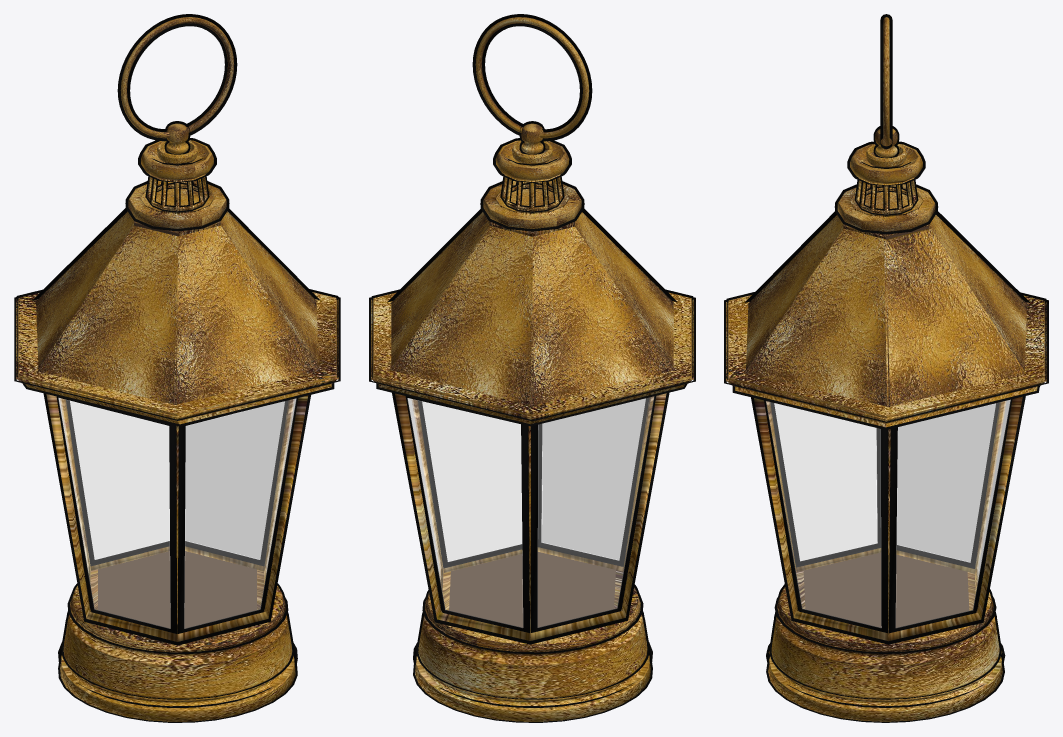
3 views of the same model, side by side, from view 1: azimuth 30°, elevation 25°; view 2: azimuth 150°, elevation 25°; view 3: azimuth 270°, elevation 25° (orthographic).
Visible parts, largest first — view 1: 六梯形头部, 六面玻璃, 金属外围, 底座身体, 六边形盖子, 柱体.上下, 手环, 柱体.中间, 扣手1, 扣手底座; view 2: 六梯形头部, 六面玻璃, 金属外围, 底座身体, 六边形盖子, 柱体.上下, 手环, 柱体.中间, 扣手1, 扣手底座; view 3: 六梯形头部, 六面玻璃, 金属外围, 底座身体, 六边形盖子, 柱体.上下, 手环, 柱体.中间, 扣手1, 扣手底座.
Boxes of the visible parts, x1,y1,x2,y2 form: 六梯形头部: (32,208,320,405); 六面玻璃: (58,397,296,628); 金属外围: (43,393,310,645); 底座身体: (58,583,297,722); 六边形盖子: (14,289,340,426); 柱体.上下: (125,138,229,231); 手环: (117,14,237,141); 柱体.中间: (145,176,209,212); 扣手1: (164,121,190,154); 扣手底座: (157,141,197,164); 六梯形头部: (387,208,677,406); 六面玻璃: (407,397,653,627); 金属外围: (392,392,669,644); 底座身体: (413,584,652,722); 六边形盖子: (369,289,695,426); 柱体.上下: (480,138,584,231); 手环: (472,14,592,141); 柱体.中间: (500,176,564,212); 扣手1: (519,121,545,154); 扣手底座: (512,141,552,164); 六梯形头部: (744,211,1030,407); 六面玻璃: (766,399,1010,627); 金属外围: (751,396,1025,644); 底座身体: (766,584,1005,722); 六边形盖子: (724,292,1048,429); 柱体.上下: (834,141,938,234); 手环: (880,14,892,149); 柱体.中间: (854,179,918,215); 扣手1: (873,126,899,158); 扣手底座: (866,144,906,167).
Size of the model in its own units: 2.37 by 4.55 by 2.05.
Materials: 5 (2 with a texture image).
